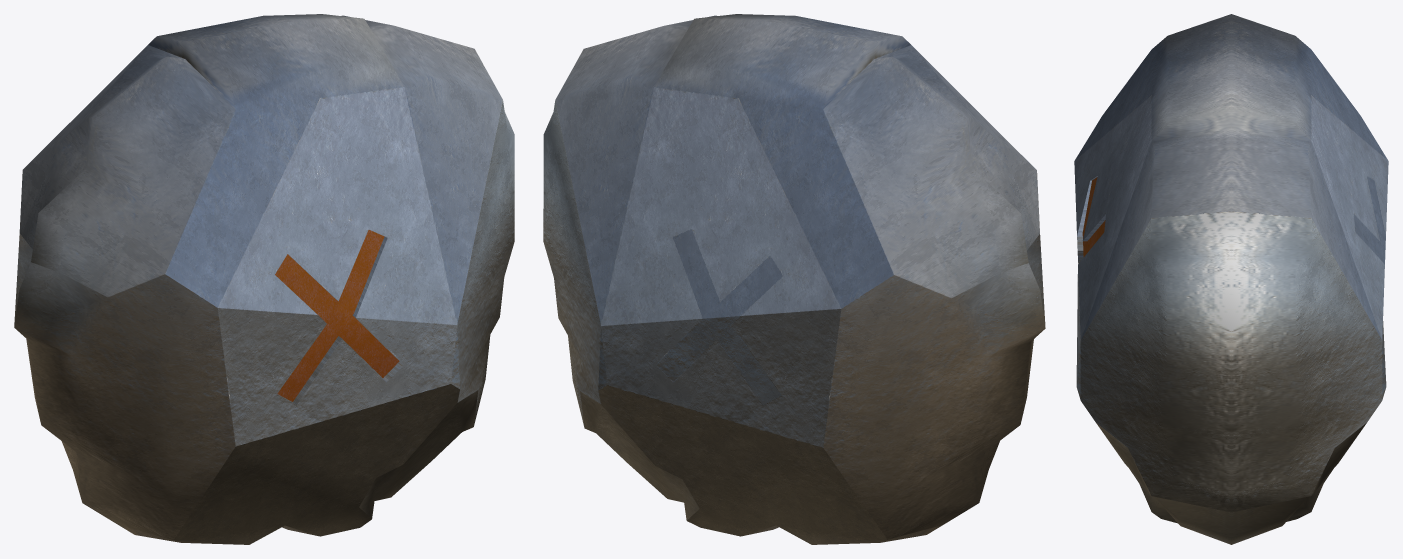
Rendered from Slam_Cronus.fbx.
3 renders of one model, left to right at view 1: azimuth 30°, elevation 25°; view 2: azimuth 150°, elevation 25°; view 3: azimuth 270°, elevation 25°, orthographic. The views are drawn at different scales.
Visible parts, largest first — view 1: Q_Athena's Guardian; view 2: Q_Athena's Guardian; view 3: Q_Athena's Guardian.
Boxes of the visible parts, x1,y1,x2,y2 form: Q_Athena's Guardian: (14,14,514,544); Q_Athena's Guardian: (543,14,1045,544); Q_Athena's Guardian: (1074,14,1388,544).
Size of the model in its own units: 60.15 by 60.84 by 37.36.
Materials: 1 (1 with a texture image).
